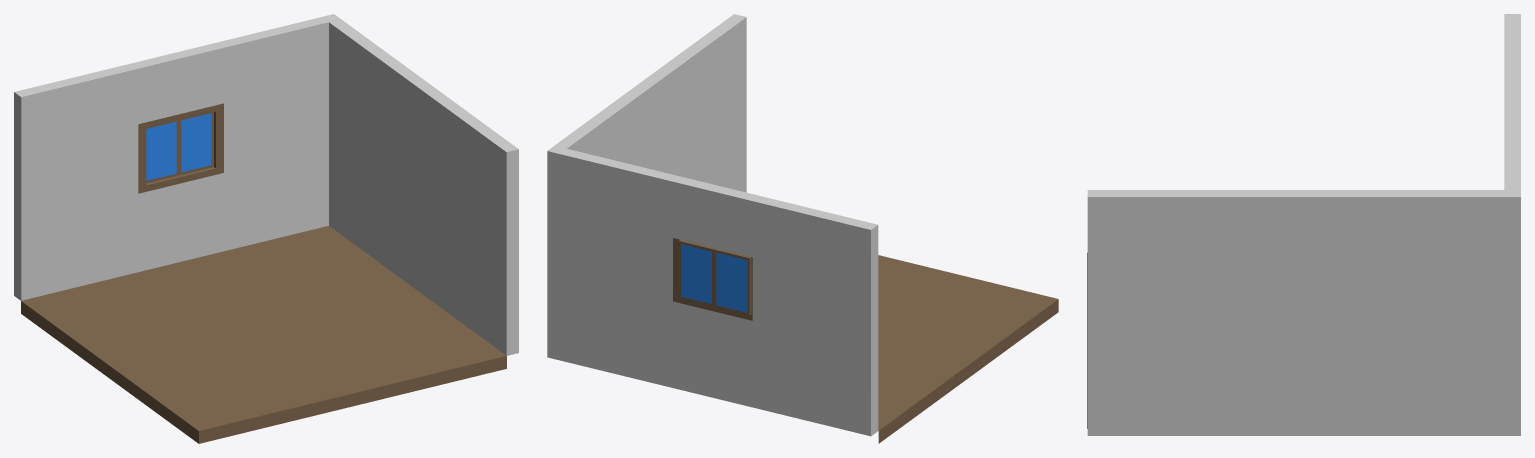
Rendered from floor.FBX.
3 renders of one model, left to right at view 1: azimuth 30°, elevation 25°; view 2: azimuth 150°, elevation 25°; view 3: azimuth 270°, elevation 25°, orthographic. The views are drawn at different scales.
Visible parts, largest first — view 1: Box001; view 2: Box001; view 3: Box001.
Boxes of the visible parts, box(x1,y1,x2,y2) form: Box001: box(14, 14, 518, 443); Box001: box(547, 14, 1058, 443); Box001: box(1087, 14, 1520, 435).
Size of the model in its own units: 35.25 by 22.77 by 35.28.
